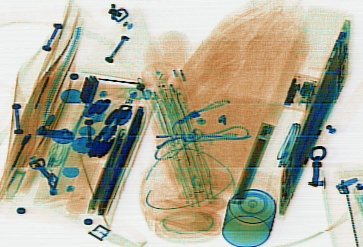pressure: (220, 187, 277, 245)
